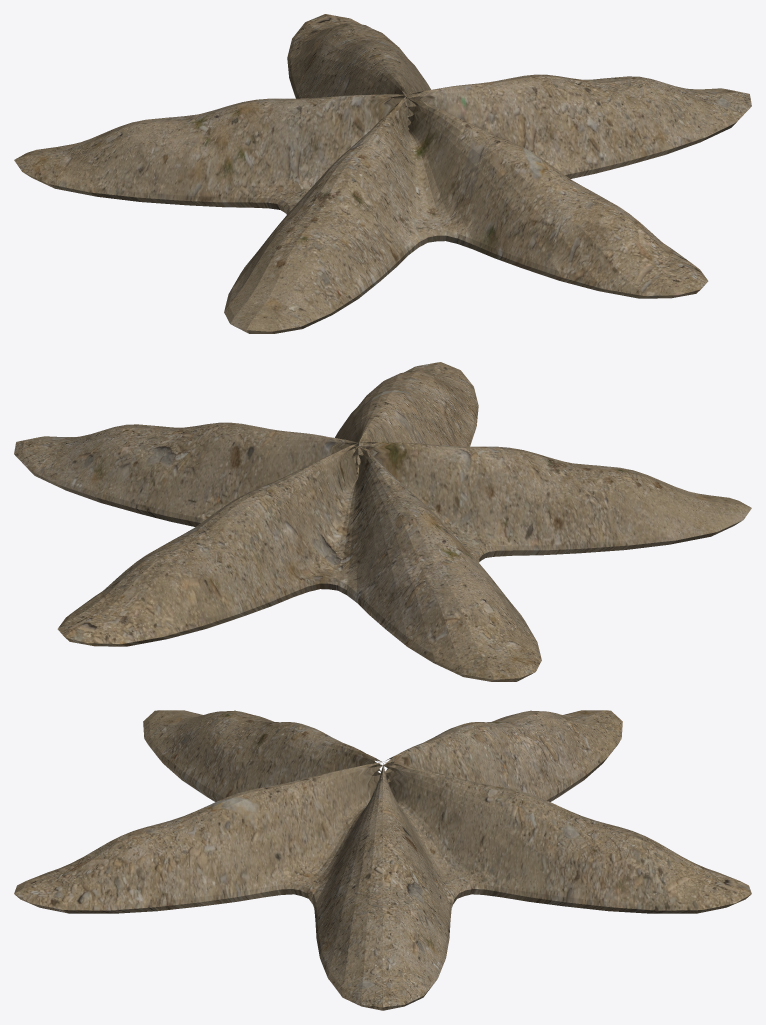
File: starfish.glb
3 renders of one model, top to bottom at view 1: azimuth 30°, elevation 25°; view 2: azimuth 150°, elevation 25°; view 3: azimuth 270°, elevation 25°, orthographic.
Parts seen in each view (by area): view 1: estrela; view 2: estrela; view 3: estrela.
Part boxes in pixels (x1,y1,x2,y2): estrela: (14, 14, 751, 333); estrela: (14, 362, 751, 681); estrela: (14, 710, 751, 1010).
Size of the model in its own units: 0.2254 by 0.034 by 0.2354.
Materials: 1 (1 with a texture image).
